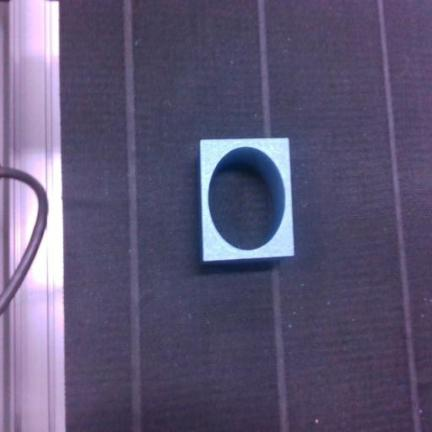hole: (200, 139, 294, 262)
